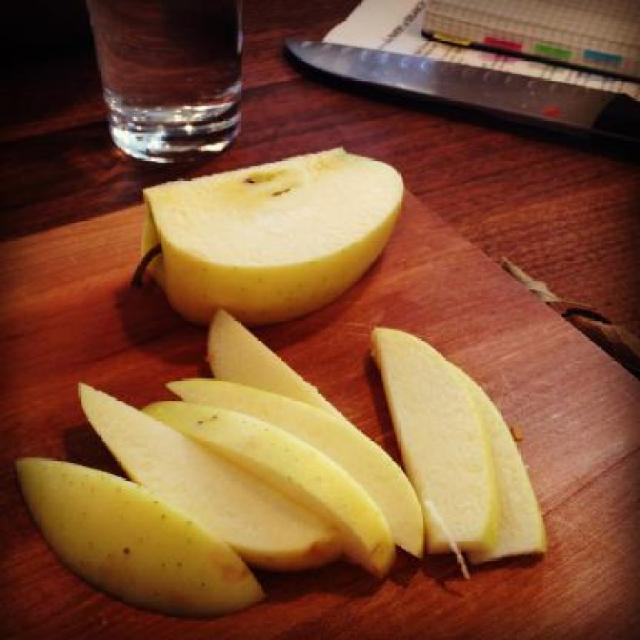Apple pie: (16, 309, 552, 620), (140, 150, 397, 344)
